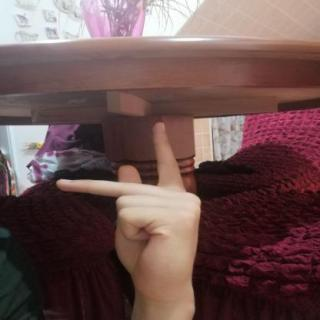DHAA: (45, 112, 220, 300)
